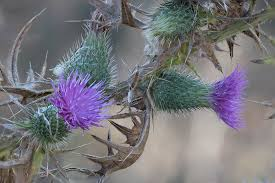bull thistle: (20, 65, 117, 153), (135, 62, 250, 134)
